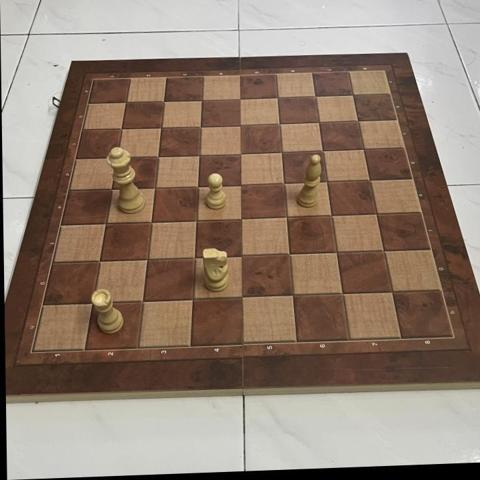xcorner: (310, 113, 328, 131), (231, 116, 249, 134), (190, 146, 208, 164), (149, 147, 167, 165), (322, 206, 340, 224), (277, 208, 295, 226), (187, 211, 205, 229), (280, 245, 298, 263), (138, 250, 156, 268), (283, 286, 301, 304), (233, 288, 251, 306), (344, 86, 362, 103), (307, 87, 324, 105), (269, 88, 286, 106), (193, 91, 210, 109), (155, 92, 172, 110), (349, 112, 367, 129), (192, 117, 209, 135), (152, 119, 170, 136), (113, 120, 130, 138), (355, 140, 372, 158), (273, 143, 290, 161), (361, 171, 378, 189), (275, 174, 292, 192), (189, 177, 206, 195), (103, 180, 120, 198), (367, 205, 385, 222), (232, 210, 250, 227), (142, 213, 160, 230), (97, 215, 115, 232), (327, 244, 345, 261), (233, 247, 250, 265), (91, 252, 108, 270), (382, 283, 400, 300), (184, 290, 201, 308), (134, 292, 151, 310), (231, 90, 248, 107), (117, 94, 134, 111), (271, 115, 288, 132), (314, 142, 331, 159), (232, 145, 249, 162), (108, 149, 125, 166), (318, 173, 335, 190), (232, 176, 249, 193), (146, 179, 163, 196), (375, 242, 392, 259), (186, 249, 203, 266), (333, 285, 350, 302), (84, 294, 101, 311)
